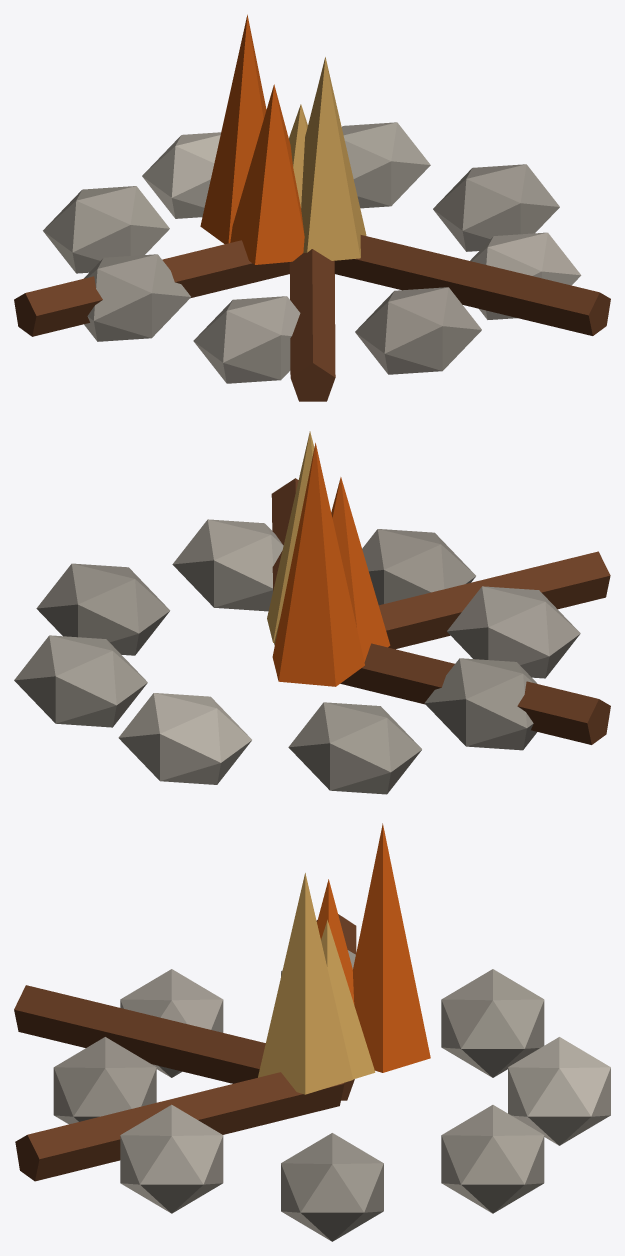
The model's file is firepit.glb.
3 renders of one model, top to bottom at view 1: azimuth 30°, elevation 25°; view 2: azimuth 150°, elevation 25°; view 3: azimuth 270°, elevation 25°, orthographic. The views are drawn at different scales.
Parts seen in each view (by area): view 1: props/firepit; view 2: props/firepit; view 3: props/firepit.
Part boxes in pixels (x1=…): props/firepit: x1=14, y1=14, x2=610, y2=401; props/firepit: x1=14, y1=431, x2=610, y2=794; props/firepit: x1=14, y1=823, x2=610, y2=1241.
Bounding box in the file's own units: 1.27 × 0.6251 × 1.18.
